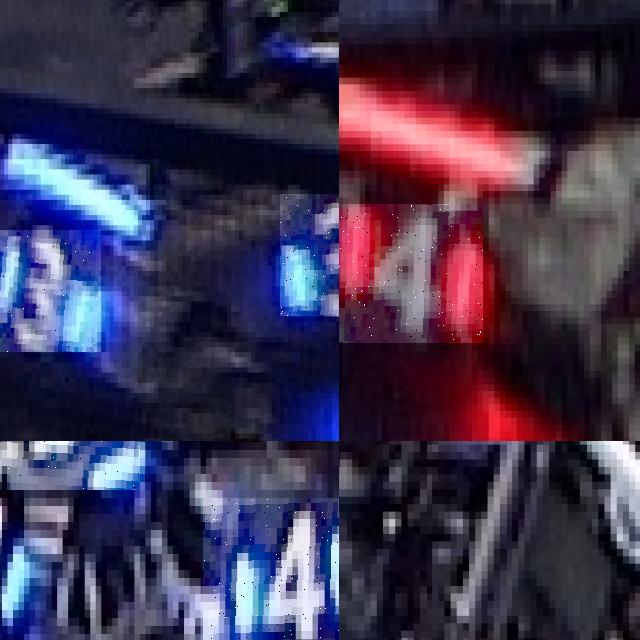B3: (0, 230, 101, 352), (279, 194, 339, 316)
B4: (203, 498, 339, 640), (7, 441, 145, 490), (0, 478, 35, 630)
R4: (339, 204, 483, 344)
